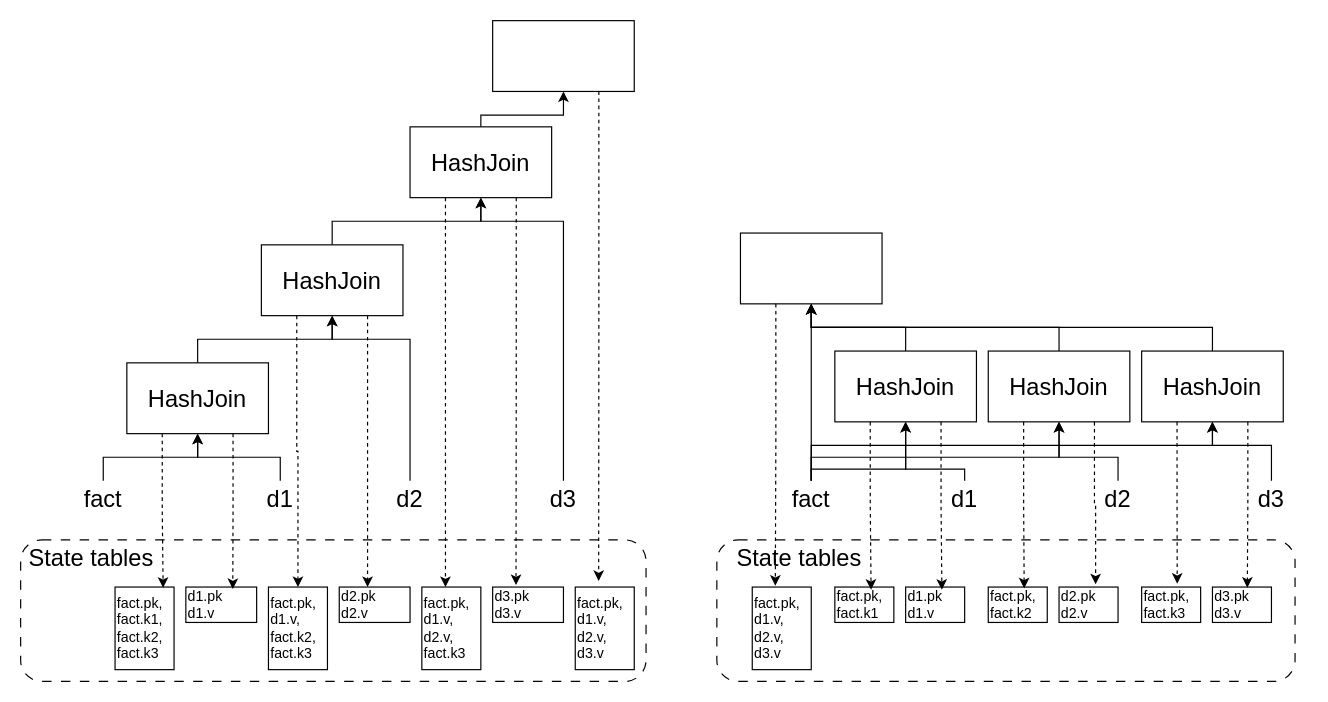
The diagram is 1328 pixels wide and 702 high, and some of its shapes have lost their labels. The shapes that lost their labels are listed below. From the top down, each one's centre as x and y in pixels, then its label:
the point at 562,55: Materialize
the point at 810,268: Table
